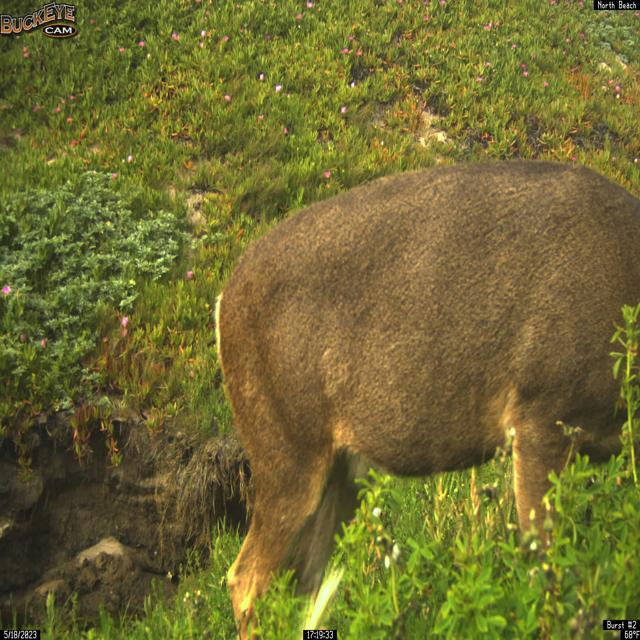deer: (213, 159, 640, 638)
